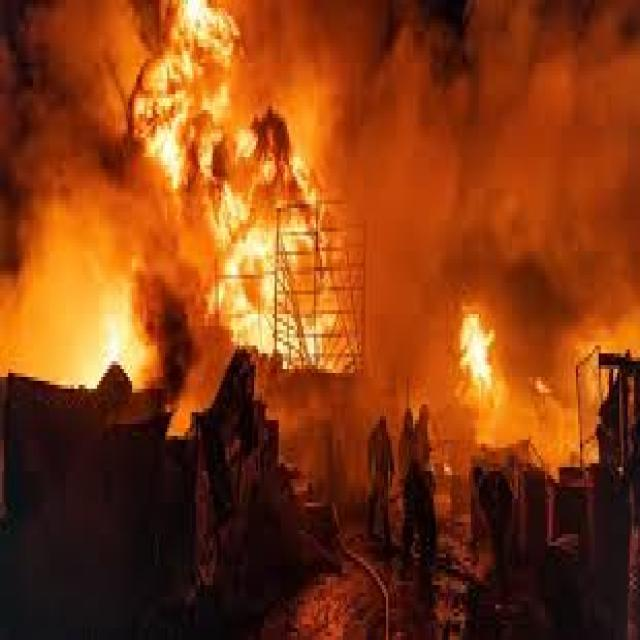fire: (126, 0, 341, 381), (27, 212, 160, 391), (434, 260, 527, 418)
